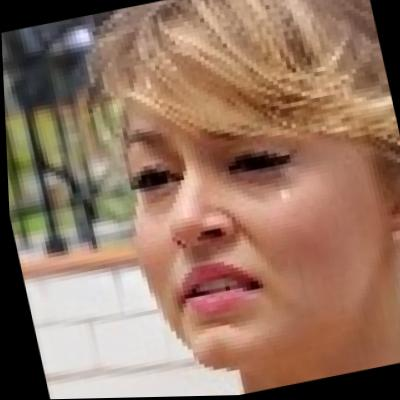sad: (98, 79, 390, 389)
